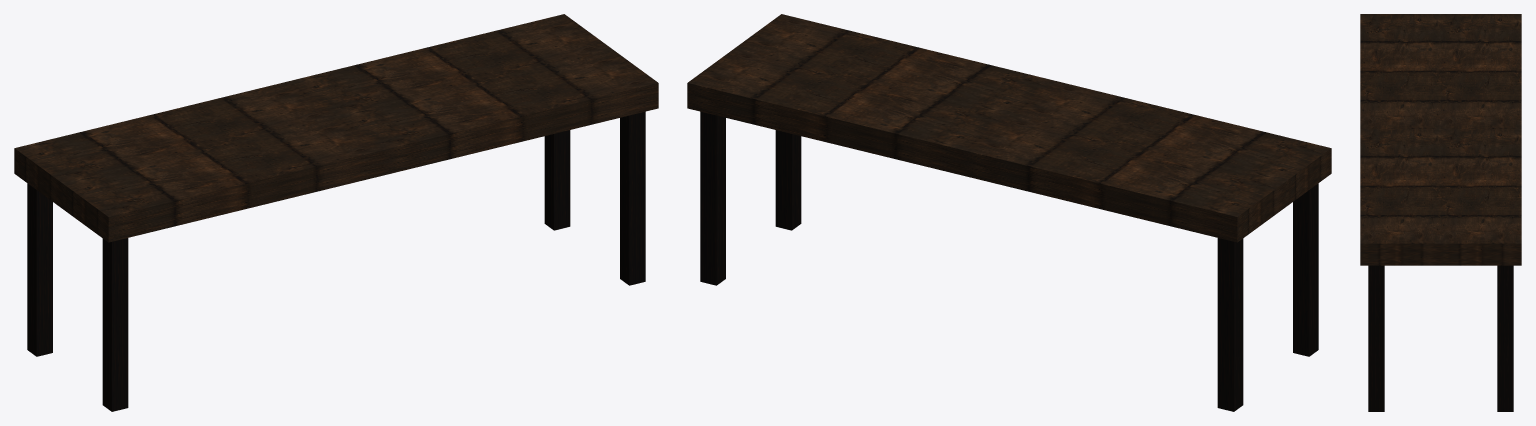
3 views of the same model, side by side, from view 1: azimuth 30°, elevation 25°; view 2: azimuth 150°, elevation 25°; view 3: azimuth 270°, elevation 25° (orthographic). The views are drawn at different scales.
Visible parts, largest first — view 1: fixture-B-workbench; view 2: fixture-B-workbench; view 3: fixture-B-workbench.
Part boxes in pixels (x1,y1,x2,y2): fixture-B-workbench: (14,14,658,411); fixture-B-workbench: (687,14,1331,411); fixture-B-workbench: (1360,14,1521,411).
Size of the model in its own units: 2.7 by 0.94 by 0.8.
Materials: 2 (2 with a texture image).
